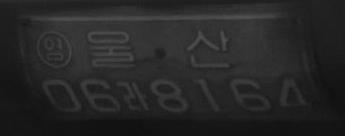0: (42, 77, 83, 113)
1: (192, 77, 224, 112)
4: (277, 76, 314, 114)
6: (229, 77, 271, 114), (83, 77, 121, 115)
8: (151, 77, 189, 115)
라: (121, 80, 151, 113)
영: (35, 28, 74, 70)
울산_D: (86, 27, 230, 69)
